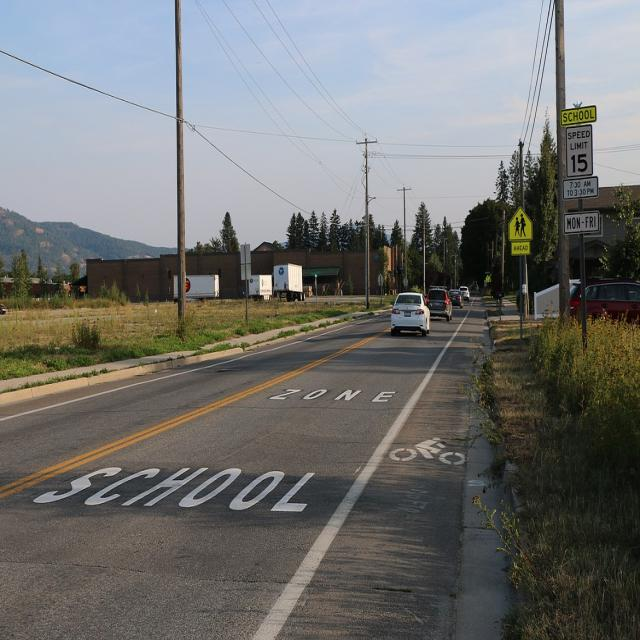speedLimit15: (564, 120, 593, 177)
